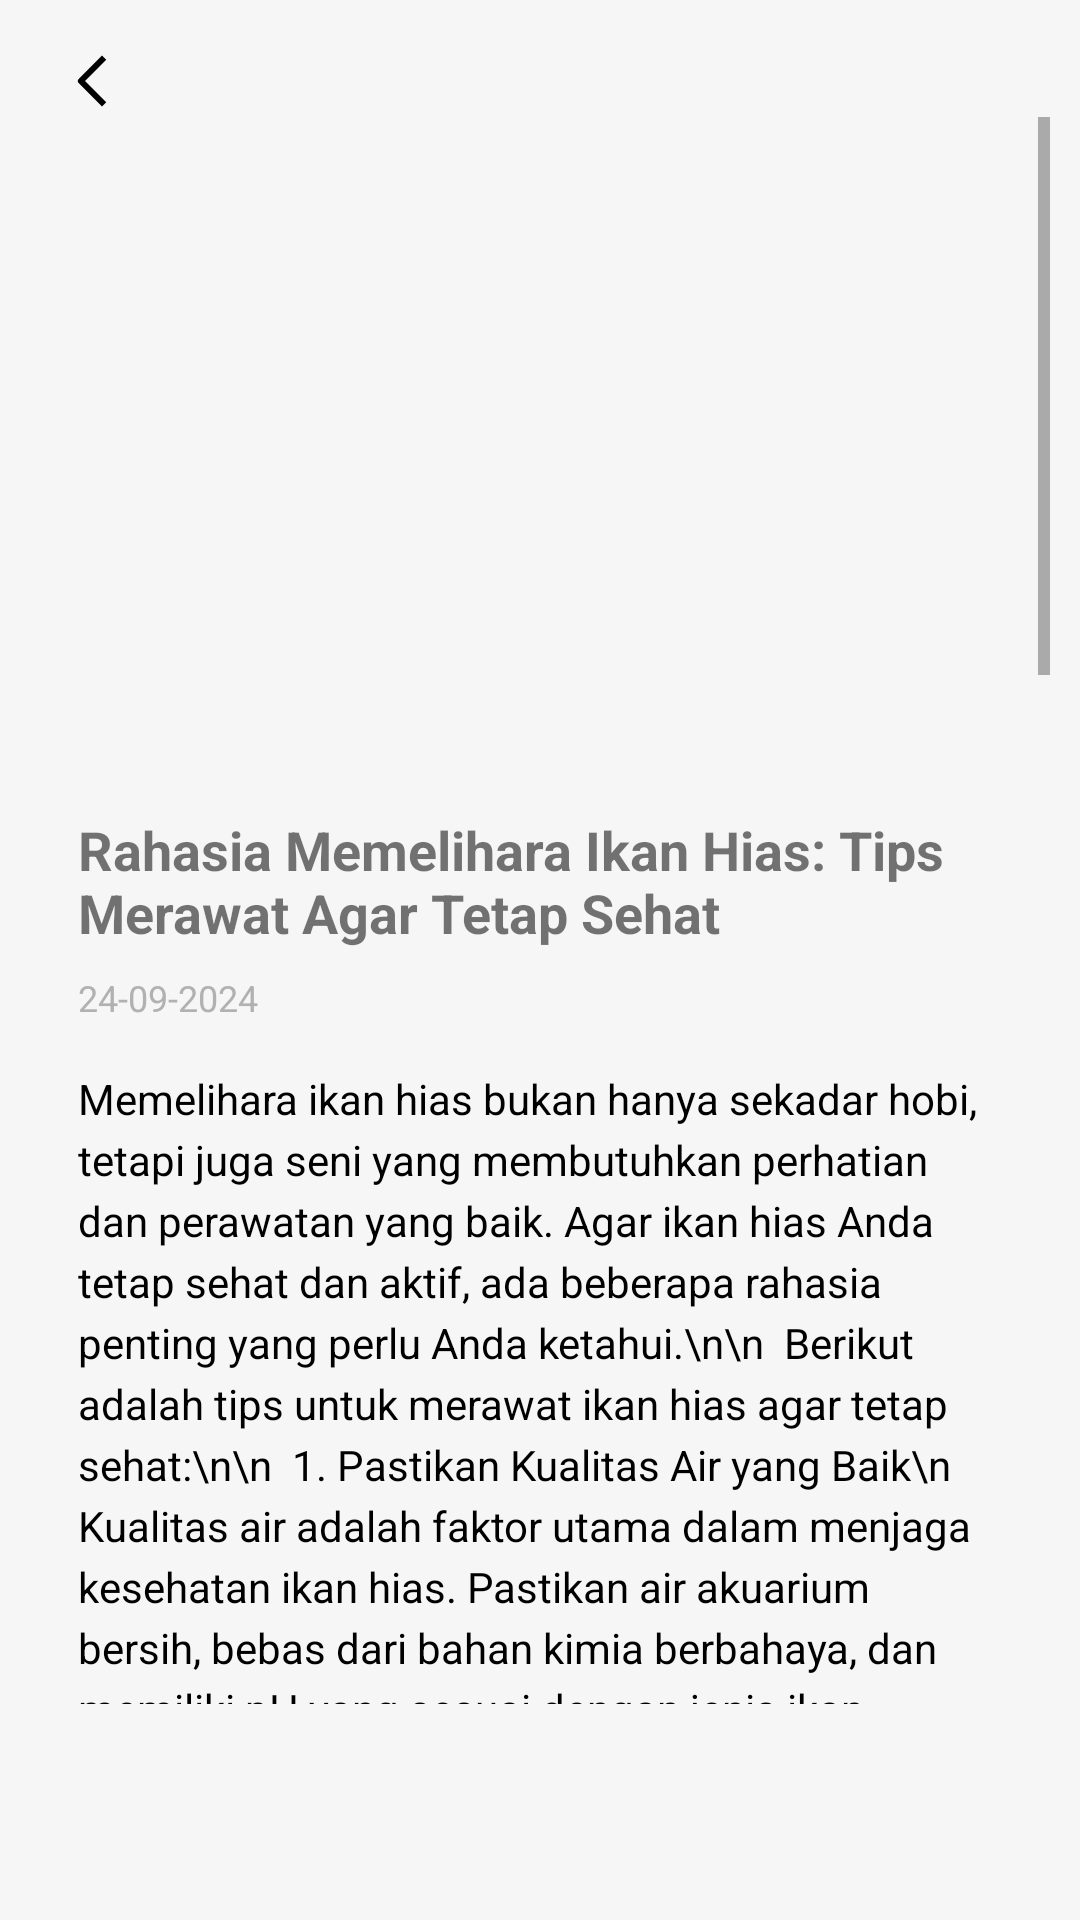

Named icons in this screenshot (1080*1920) and their bounding boxes, (left=x1, top=y1, right=x2, bottom=y2):
Kembali: (left=77, top=55, right=106, bottom=107)
